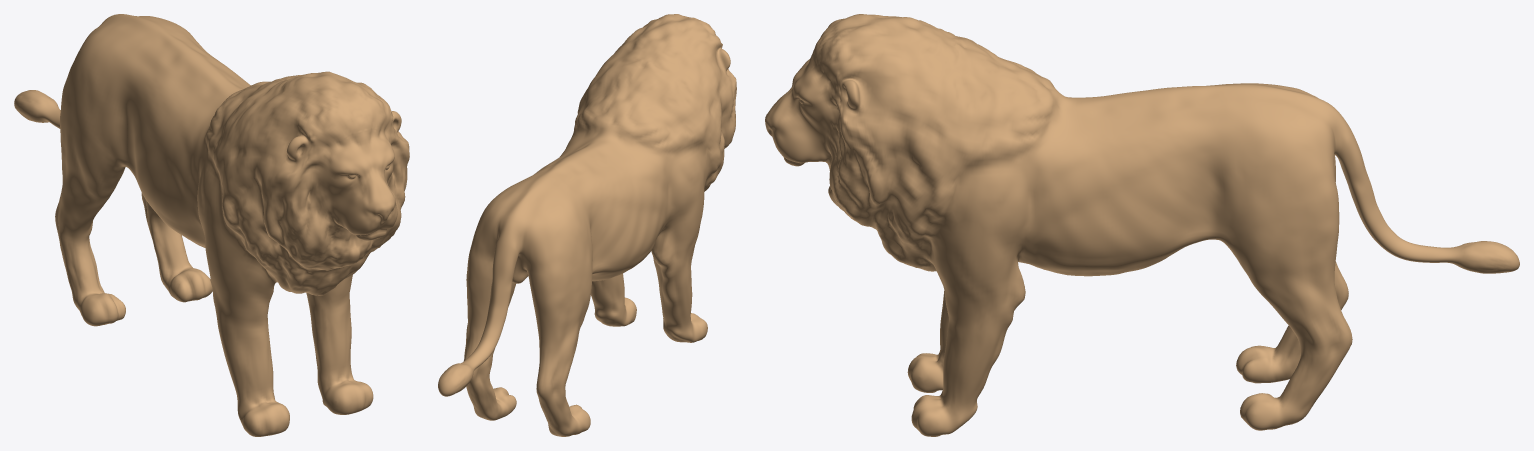
Rendered from singa warna.fbx.
The picture shows the model from 3 angles, left to right: view 1: azimuth 30°, elevation 25°; view 2: azimuth 150°, elevation 25°; view 3: azimuth 270°, elevation 25°; orthographic projection. The views are drawn at different scales.
Parts seen in each view (by area): view 1: 11506_Lion; view 2: 11506_Lion; view 3: 11506_Lion.
Boxes of the visible parts, left/top/right/bottom form: 11506_Lion: left=14, top=14, right=409, bottom=436; 11506_Lion: left=438, top=14, right=736, bottom=436; 11506_Lion: left=765, top=14, right=1519, bottom=436.
Size of the model in its own units: 140 by 291 by 514.
